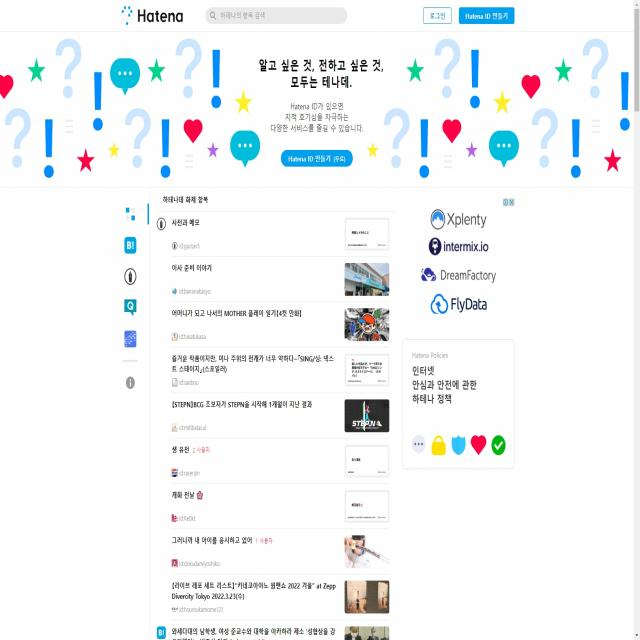menu-bar: (417, 4, 517, 26)
search: (205, 5, 349, 25)
side-panel: (116, 200, 148, 398)
